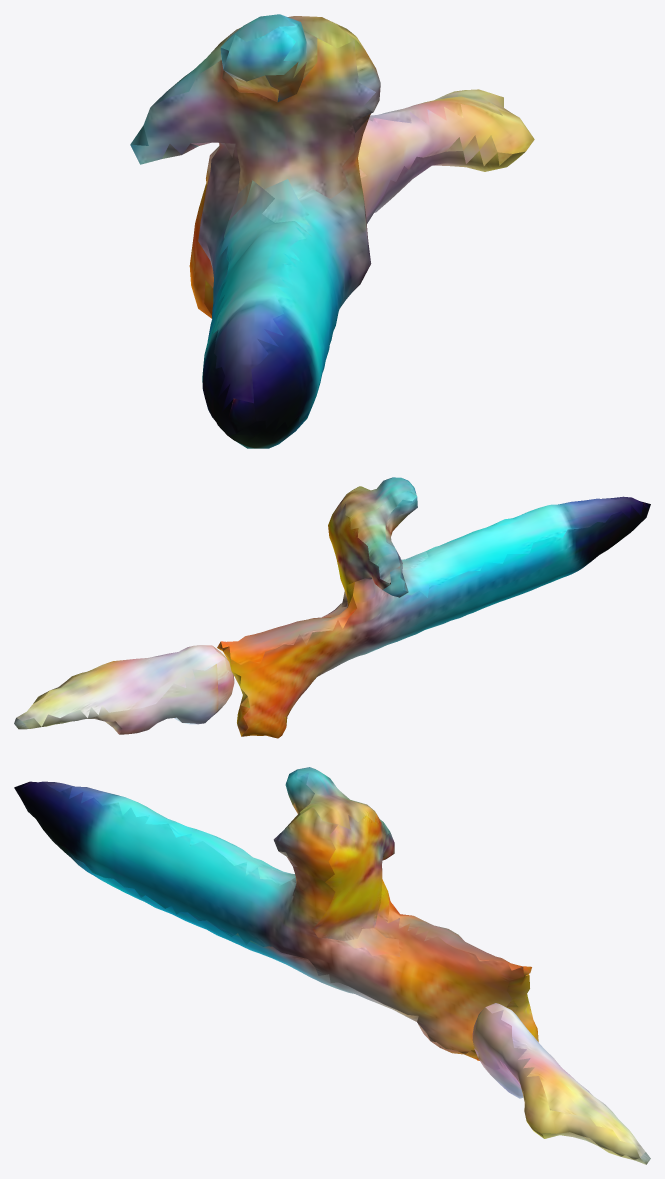
The model's file is rocket_00000_.glb.
3 renders of one model, top to bottom at view 1: azimuth 30°, elevation 25°; view 2: azimuth 150°, elevation 25°; view 3: azimuth 270°, elevation 25°, orthographic. The views are drawn at different scales.
Visible parts, largest first — view 1: world; view 2: world; view 3: world.
Part boxes in pixels (bbox=[...]): world: bbox=[130, 14, 534, 448]; world: bbox=[14, 477, 650, 738]; world: bbox=[14, 767, 650, 1164].
Bounding box in the file's own units: 0.5649 × 0.3041 × 0.6695.
Materials: 1 (1 with a texture image).
